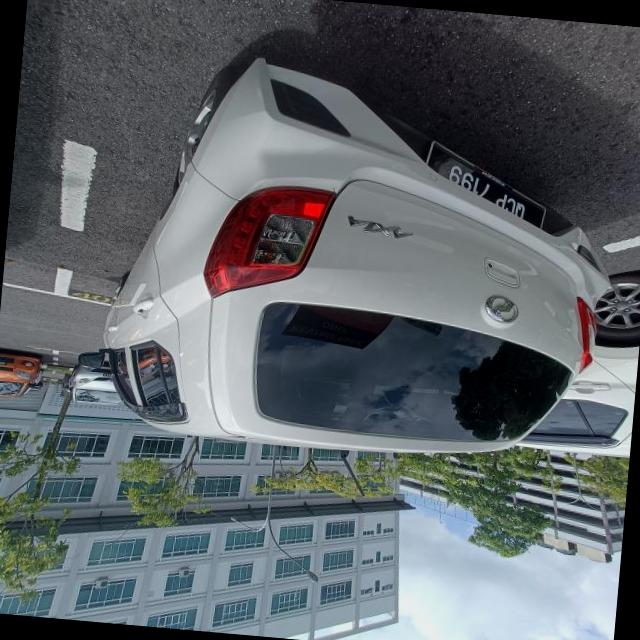PeroduaAxia: (74, 43, 630, 475)
